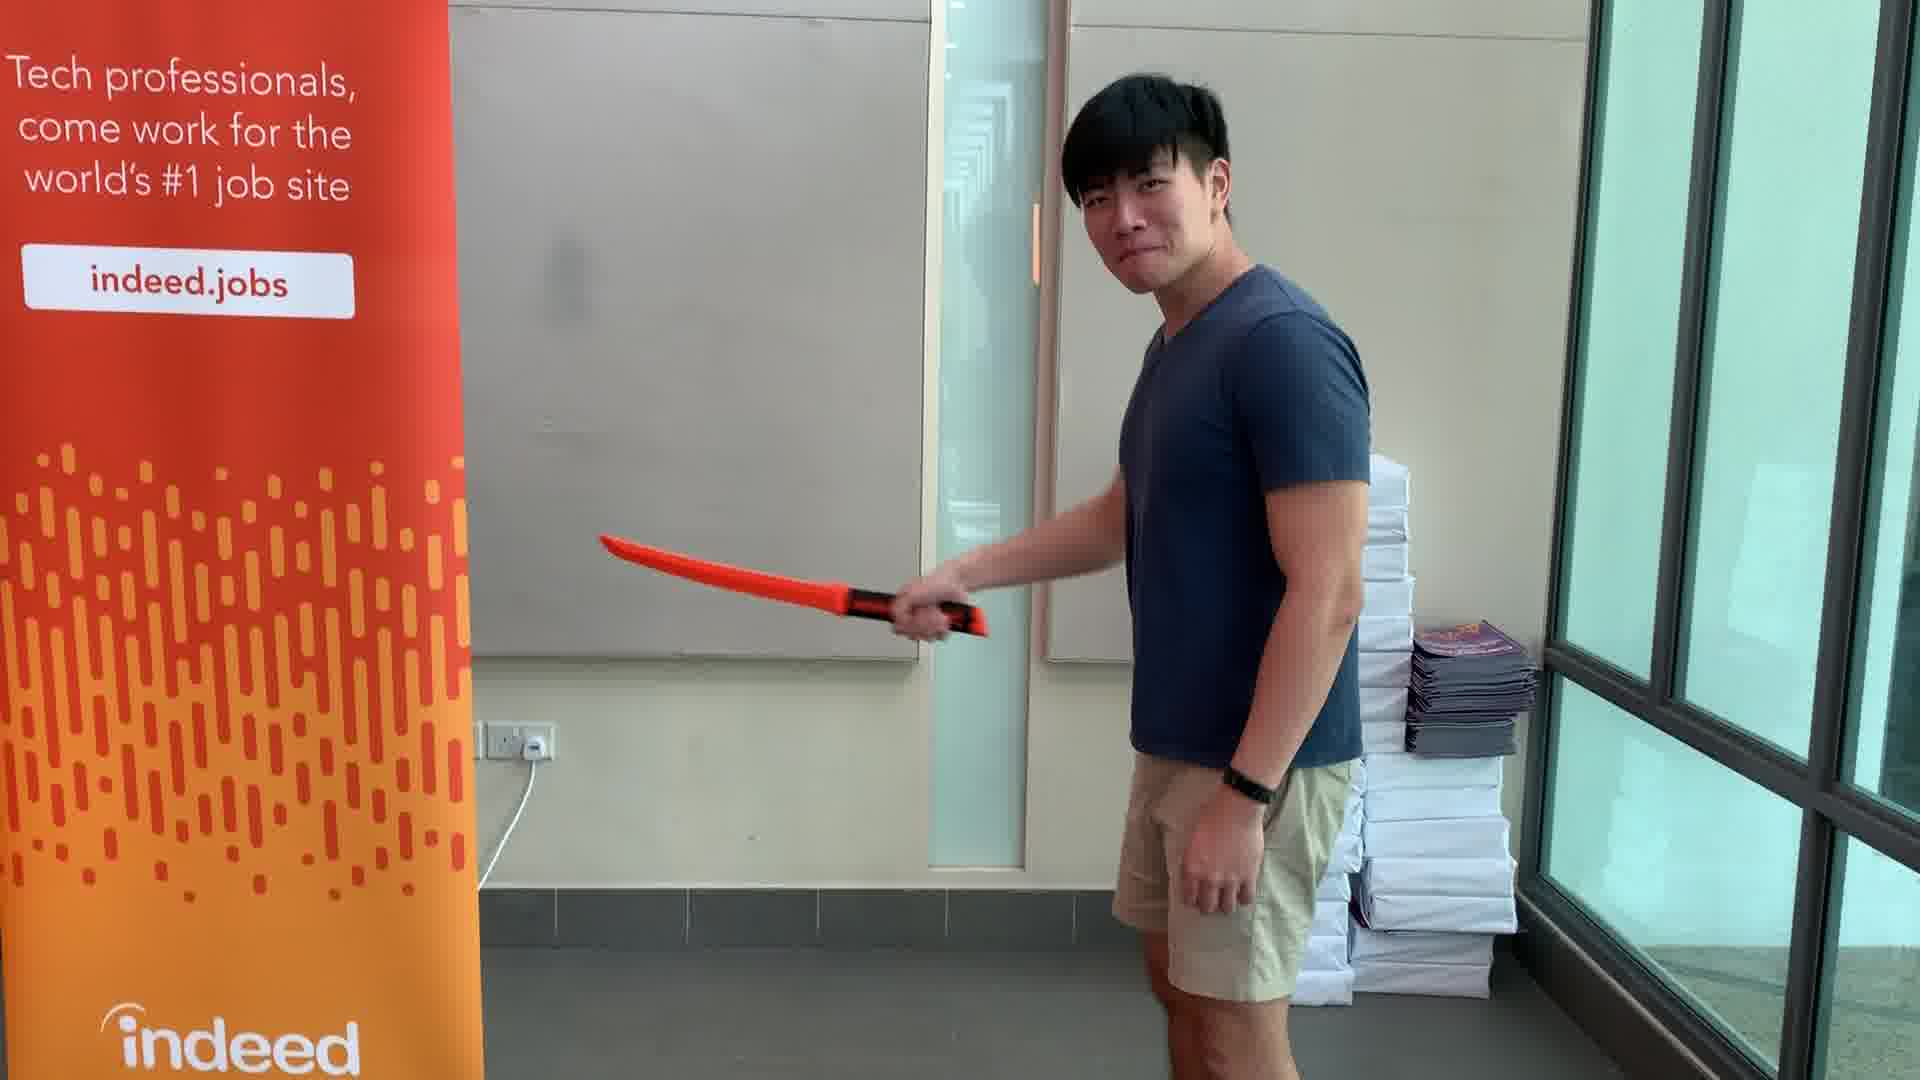knife: (585, 527, 1000, 647)
